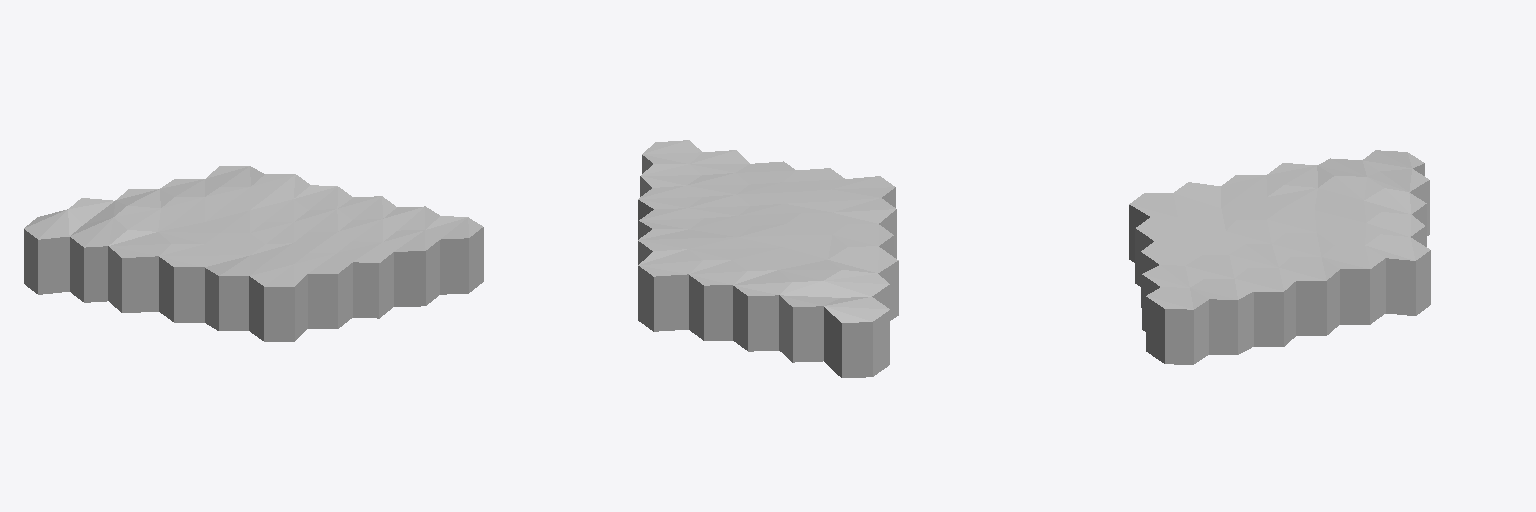
The model's file is hex30.obj.
3 renders of one model, left to right at view 1: azimuth 30°, elevation 25°; view 2: azimuth 150°, elevation 25°; view 3: azimuth 270°, elevation 25°, orthographic.
Visible parts, largest first — view 1: cell.025_base3.021, cell.006_base2.001, cell.021_base3.017, cell.2_base1.001, cell.027_base3.023, cell.029_base3.025, cell.013_base3.009, cell.012_base3.008, cell.007_base3.003, cell.026_base3.022, cell.000_base3.002, cell.018_base3.014 (+18 smaller); view 2: cell.021_base3.017, cell.019_base3.015, cell.023_base3.019, cell.022_base3.018, cell.020_base3.016, cell.006_base2.001, cell.012_base3.008, cell.007_base3.003, cell.016_base3.012, cell.018_base3.014, cell.028_base3.024, cell.025_base3.021 (+18 smaller); view 3: cell.029_base3.025, cell.018_base3.014, cell.019_base3.015, cell.017_base3.013, cell.028_base3.024, cell.016_base3.012, cell.025_base3.021, cell.013_base3.009, cell.027_base3.023, cell.026_base3.022, cell.022_base3.018, cell.023_base3.019 (+18 smaller).
Boxes of the visible parts, x1,y1,x2,y2 form: cell.025_base3.021: [249, 264, 307, 341]; cell.006_base2.001: [108, 230, 170, 312]; cell.021_base3.017: [24, 209, 82, 294]; cell.2_base1.001: [159, 244, 219, 322]; cell.027_base3.023: [383, 230, 439, 306]; cell.029_base3.025: [425, 216, 483, 294]; cell.013_base3.009: [295, 253, 352, 328]; cell.012_base3.008: [205, 255, 262, 330]; cell.007_base3.003: [70, 217, 126, 302]; cell.026_base3.022: [338, 241, 393, 318]; cell.000_base3.002: [114, 206, 173, 231]; cell.018_base3.014: [251, 174, 310, 198]; cell.021_base3.017: [824, 297, 889, 377]; cell.019_base3.015: [638, 249, 702, 331]; cell.023_base3.019: [733, 270, 791, 351]; cell.022_base3.018: [779, 281, 839, 362]; cell.020_base3.016: [689, 260, 746, 340]; cell.006_base2.001: [828, 246, 898, 320]; cell.012_base3.008: [832, 198, 896, 258]; cell.007_base3.003: [824, 270, 889, 308]; cell.016_base3.012: [638, 186, 701, 239]; cell.018_base3.014: [638, 229, 701, 264]; cell.028_base3.024: [640, 164, 701, 196]; cell.025_base3.021: [832, 176, 895, 207]; cell.029_base3.025: [1146, 287, 1208, 364]; cell.018_base3.014: [1322, 245, 1385, 324]; cell.019_base3.015: [1365, 234, 1430, 315]; cell.017_base3.013: [1279, 257, 1339, 335]; cell.028_base3.024: [1190, 279, 1253, 354]; cell.016_base3.012: [1235, 268, 1295, 346]; cell.025_base3.021: [1129, 193, 1192, 262]; cell.013_base3.009: [1135, 217, 1196, 286]; cell.027_base3.023: [1142, 265, 1203, 331]; cell.026_base3.022: [1141, 241, 1201, 307]; cell.022_base3.018: [1368, 169, 1429, 235]; cell.023_base3.019: [1364, 188, 1426, 246].
Bounding box in the file's own units: 12.89 × 2.44 × 9.9.